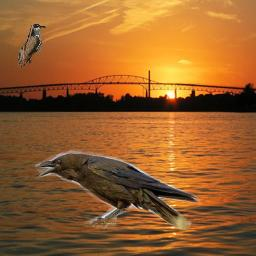Crow: (34, 149, 202, 230)
Cuckoo: (18, 24, 53, 68)
